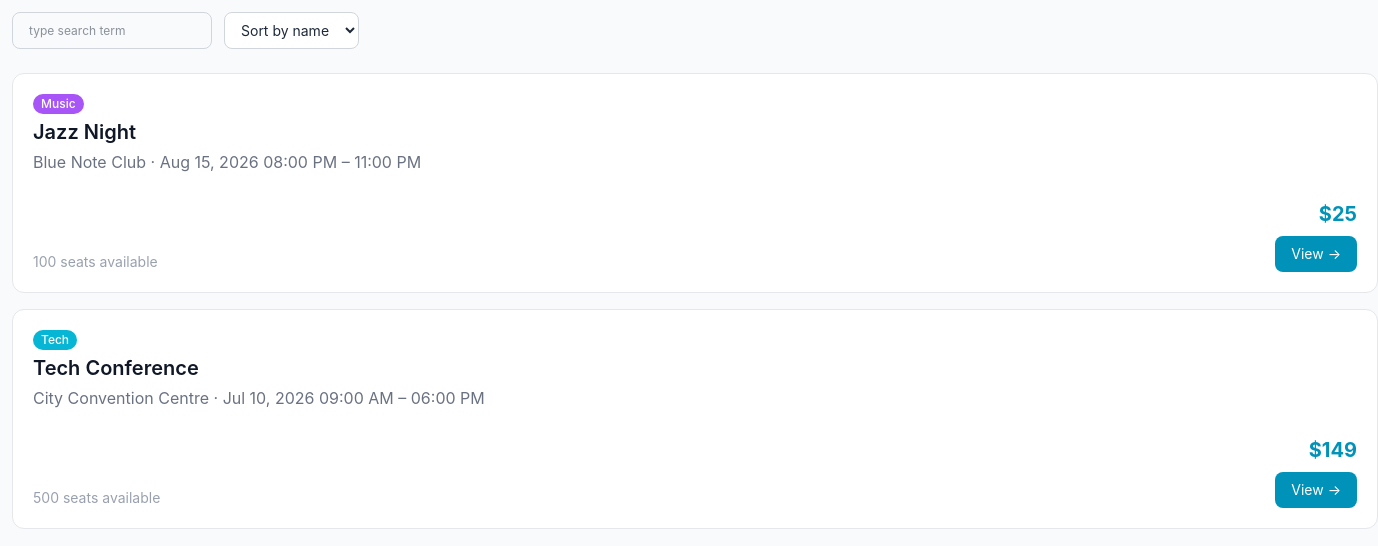
Test: shows no events when search term matches nothing
The image size is (1378, 546).
expect the link "Jazz Night" is shown: met, box [33,120,136,144]
In the field with placeholder "type search term": (112, 30) [12,12,212,49], type "zzznomatch"
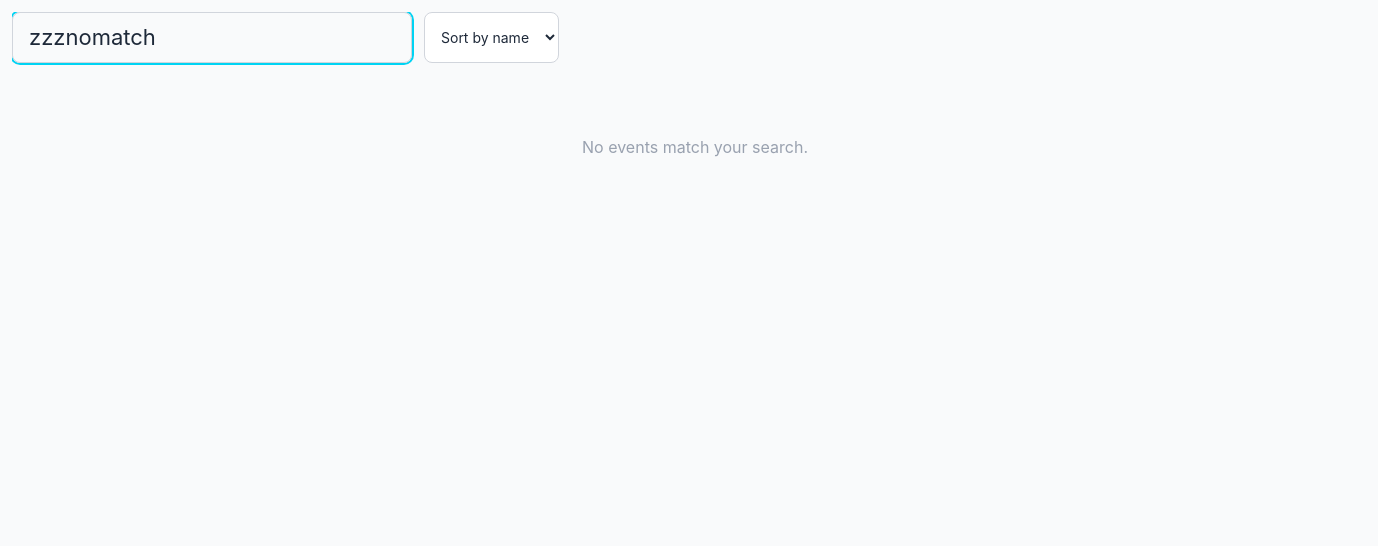
expect no list items are shown: met
